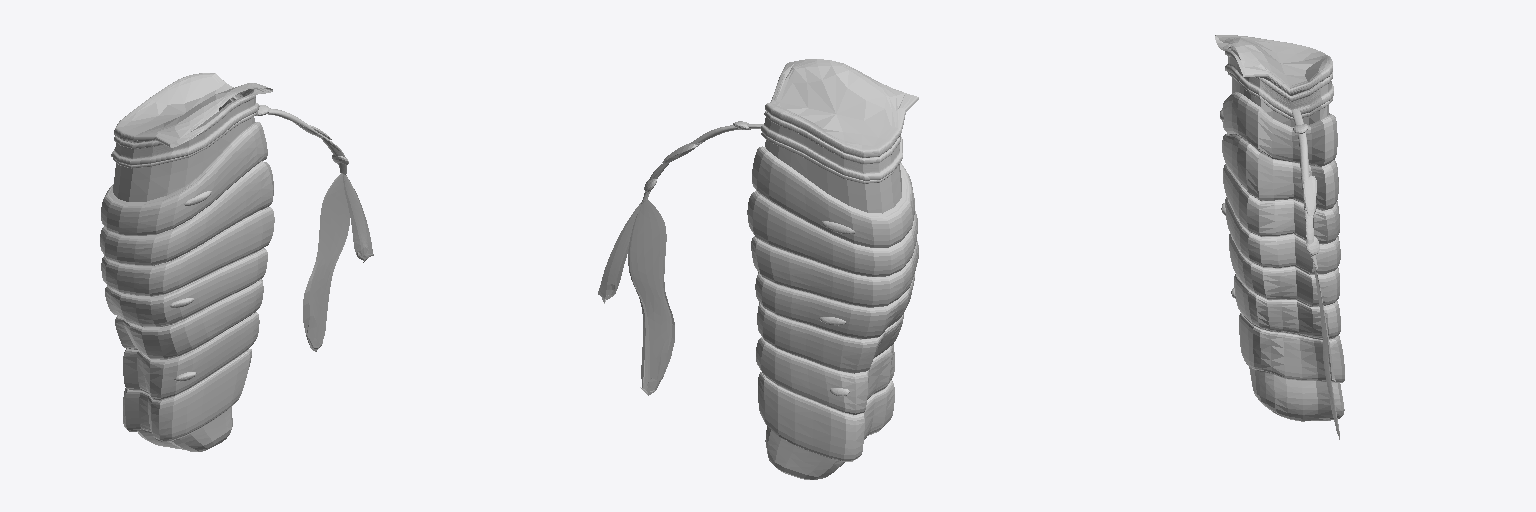
Rendered from arrowbag.obj.
The picture shows the model from 3 angles: view 1: azimuth 30°, elevation 25°; view 2: azimuth 150°, elevation 25°; view 3: azimuth 270°, elevation 25°; orthographic projection.
Visible parts, largest first — view 1: tomahawk_Cube.006; view 2: tomahawk_Cube.006; view 3: tomahawk_Cube.006.
Boxes of the visible parts, <box> form: tomahawk_Cube.006: <box>100,73,373,451</box>; tomahawk_Cube.006: <box>598,59,918,479</box>; tomahawk_Cube.006: <box>1215,35,1344,439</box>.
Bounding box in the file's own units: 5.83 × 7.31 × 2.29.